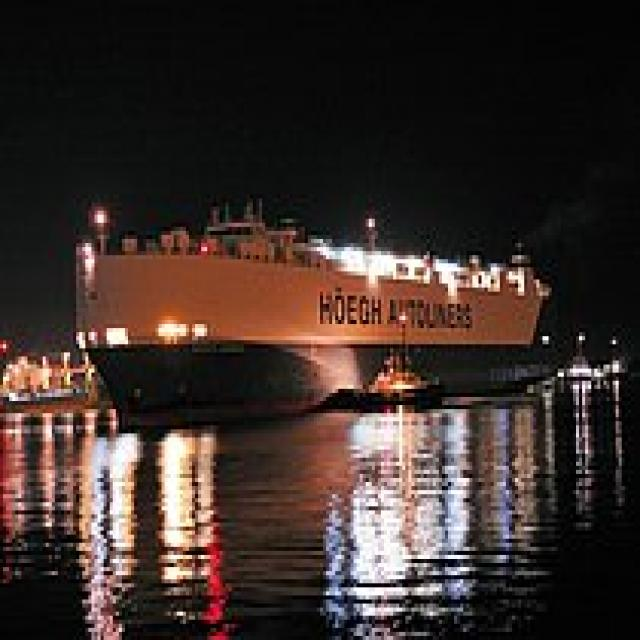Carrier: (64, 187, 552, 426)
